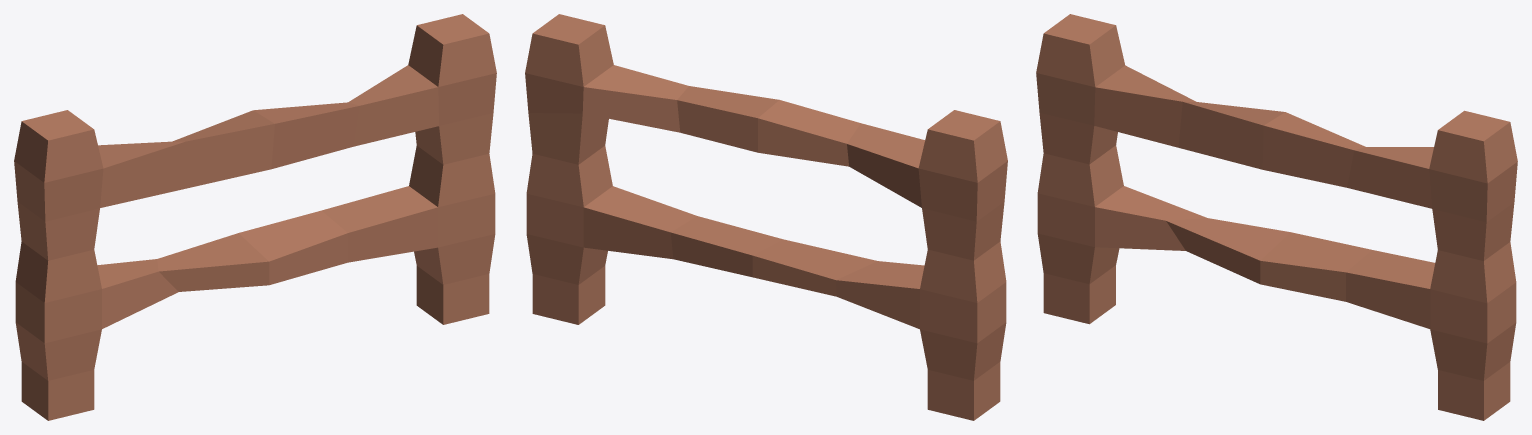
Rendered from border fences.fbx.
The picture shows the model from 3 angles, left to right: view 1: azimuth 30°, elevation 25°; view 2: azimuth 150°, elevation 25°; view 3: azimuth 330°, elevation 25°; orthographic projection.
Parts seen in each view (by area): view 1: full piece; view 2: full piece; view 3: full piece.
Part boxes in pixels (box(x1,y1,x2,y2)): full piece: box(14, 14, 496, 420); full piece: box(525, 14, 1007, 420); full piece: box(1036, 14, 1517, 420).
Size of the model in its own units: 440 by 261 by 53.54.
